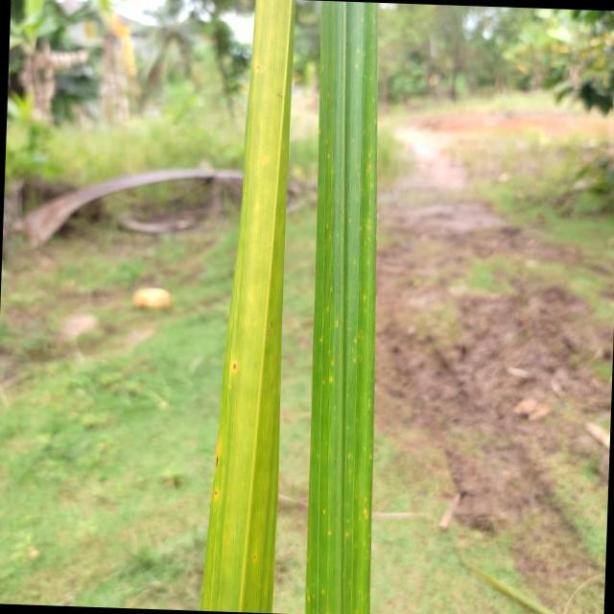nitrogen: (197, 0, 299, 614), (313, 0, 379, 614)
